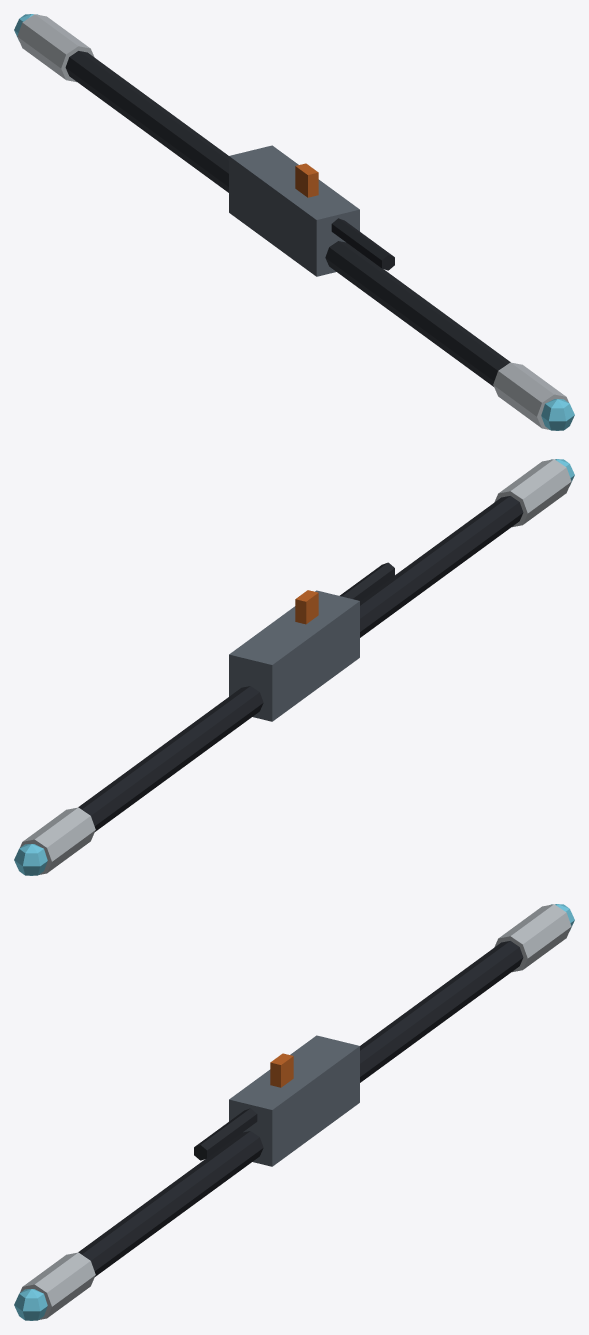
Rendered from bo-rifle.glb.
The picture shows the model from 3 angles, top to bottom: view 1: azimuth 30°, elevation 25°; view 2: azimuth 150°, elevation 25°; view 3: azimuth 330°, elevation 25°; orthographic projection.
Visible parts, largest first — view 1: m; view 2: m; view 3: m.
Boxes of the visible parts, x1,y1,x2,y2 form: m: [14, 14, 574, 430]; m: [14, 459, 574, 875]; m: [14, 904, 574, 1320].
Size of the model in its own units: 0.0437 by 0.0777 by 0.95.
